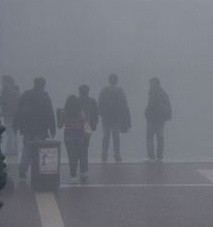person: (14, 78, 57, 182), (56, 93, 91, 184), (99, 73, 130, 163), (145, 77, 171, 164), (1, 74, 24, 159), (78, 83, 99, 132)
